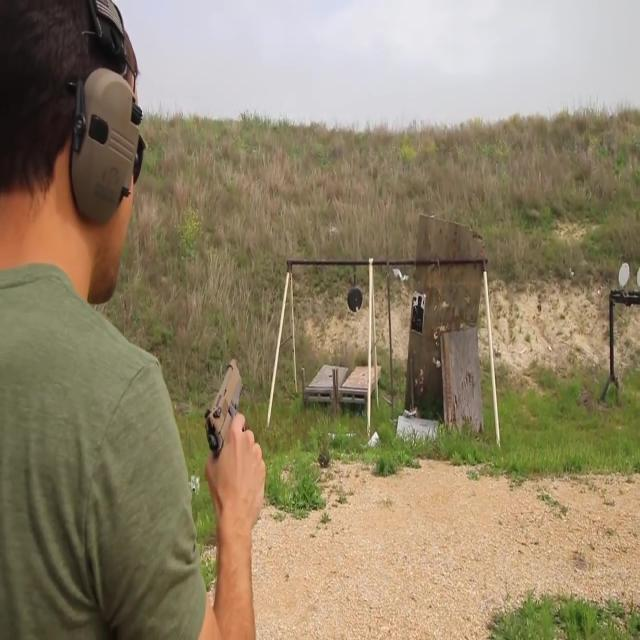Weapon: (188, 316, 284, 468)
